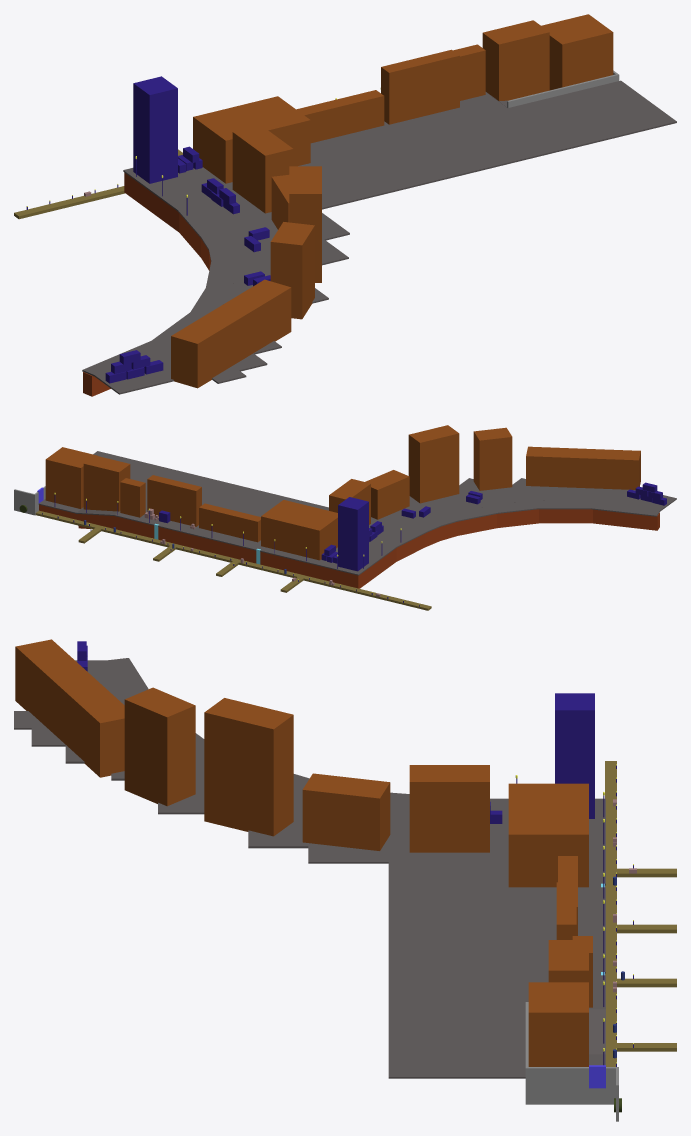
Rendered from City_Docks.obj.
3 renders of one model, top to bottom at view 1: azimuth 30°, elevation 25°; view 2: azimuth 150°, elevation 25°; view 3: azimuth 270°, elevation 25°, orthographic. The views are drawn at different scales.
Visible parts, largest first — view 1: Ground_Pavement_1_174, Building_11_40, Ground_Pavement_4_83, Building_6_195, Building_2_154, Building_4_48, Crane_1_130, Building_1_158, Building_7_136, Building_10_31, Building_5_61, Building_9_33 (+12 smaller); view 2: Building_11_40, Building_9_33, Building_6_195, Ground_Pavement_1_174, Building_10_31, Wharf_1_123, Building_1_158, Building_2_154, Crane_1_130, Building_4_48, Building_5_61, Building_8_128 (+29 smaller); view 3: Ground_Pavement_1_174, Building_9_33, Ground_Pavement_4_83, Building_11_40, Building_6_195, Building_10_31, Building_7_136, Building_8_128, Building_1_158, Crane_1_130, Wharf_1_123, CityWalls_1_121 (+10 smaller).
Part boxes in pixels (left/top/right/bottom): Ground_Pavement_1_174: left=162, top=92, right=563, bottom=231; Building_11_40: left=171, top=279, right=291, bottom=388; Ground_Pavement_4_83: left=508, top=80, right=676, bottom=150; Building_6_195: left=193, top=96, right=310, bottom=183; Building_2_154: left=482, top=20, right=549, bottom=100; Building_4_48: left=381, top=49, right=459, bottom=124; Crane_1_130: left=133, top=76, right=177, bottom=183; Building_1_158: left=541, top=14, right=613, bottom=90; Building_7_136: left=232, top=125, right=293, bottom=213; Building_10_31: left=270, top=222, right=314, bottom=319; Building_5_61: left=296, top=90, right=384, bottom=143; Building_9_33: left=289, top=166, right=321, bottom=282; Building_11_40: left=526, top=446, right=640, bottom=489; Building_9_33: left=408, top=425, right=459, bottom=503; Building_6_195: left=261, top=500, right=337, bottom=560; Ground_Pavement_1_174: left=120, top=470, right=410, bottom=564; Building_10_31: left=473, top=427, right=512, bottom=490; Wharf_1_123: left=35, top=510, right=431, bottom=610; Building_1_158: left=45, top=447, right=97, bottom=508; Building_2_154: left=83, top=455, right=130, bottom=511; Crane_1_130: left=338, top=497, right=368, bottom=571; Building_4_48: left=147, top=475, right=201, bottom=526; Building_5_61: left=199, top=503, right=260, bottom=542; Building_8_128: left=365, top=470, right=409, bottom=519; Ground_Pavement_1_174: left=388, top=807, right=588, bottom=1009; Building_9_33: left=204, top=698, right=293, bottom=836; Ground_Pavement_4_83: left=388, top=1009, right=525, bottom=1078; Building_11_40: left=15, top=639, right=124, bottom=777; Building_6_195: left=508, top=783, right=588, bottom=887; Building_10_31: left=124, top=687, right=195, bottom=806; Building_7_136: left=409, top=765, right=489, bottom=852; Building_8_128: left=302, top=773, right=390, bottom=850; Building_1_158: left=528, top=982, right=588, bottom=1066; Crane_1_130: left=555, top=693, right=594, bottom=818; Wharf_1_123: left=605, top=761, right=616, bottom=1066; CityWalls_1_121: left=528, top=1067, right=618, bottom=1104.
Size of the model in its own units: 257 by 40.79 by 165.
